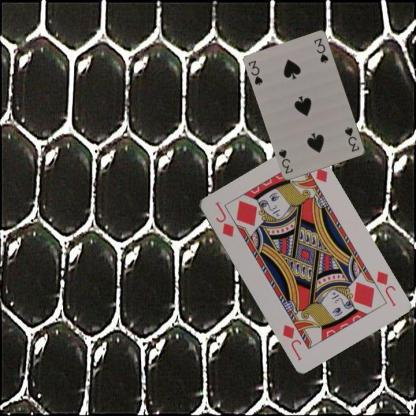3s: (342, 124, 361, 153), (246, 58, 264, 86)
Jd: (373, 268, 397, 308), (212, 198, 235, 239)
